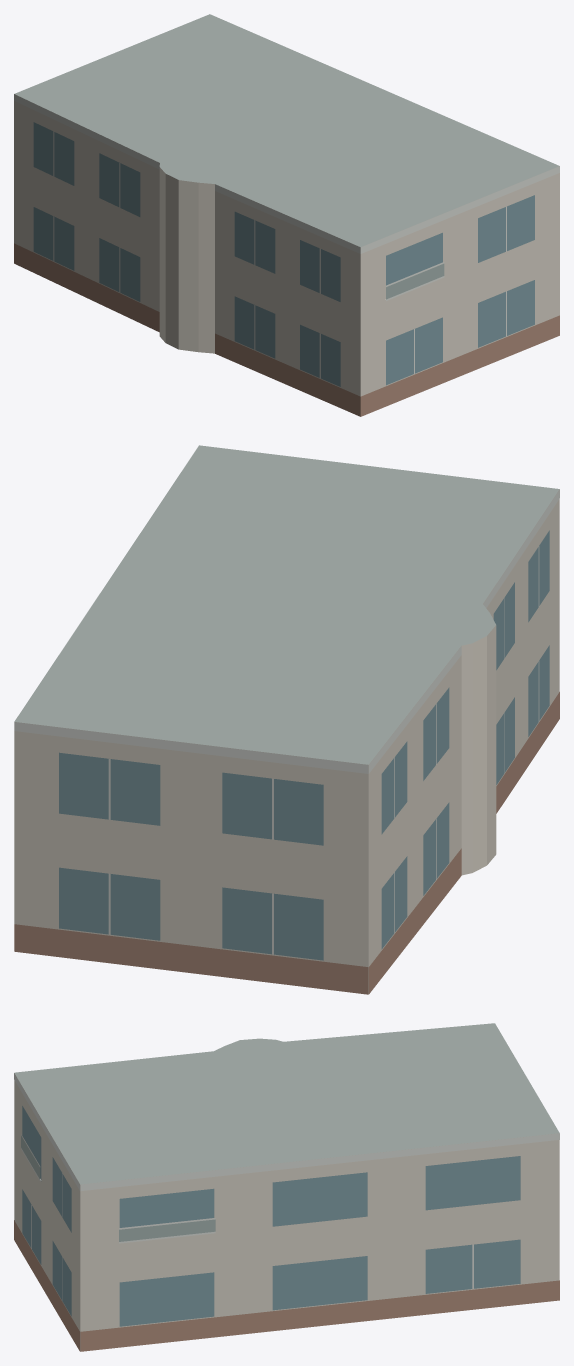
The model's file is survey-upis-32607723.glb.
The picture shows the model from 3 angles, top to bottom: view 1: azimuth 30°, elevation 25°; view 2: azimuth 150°, elevation 25°; view 3: azimuth 270°, elevation 25°; orthographic projection. The views are drawn at different scales.
Visible parts, largest first — view 1: survey-upis-32607723.tmp; view 2: survey-upis-32607723.tmp; view 3: survey-upis-32607723.tmp.
Boxes of the visible parts, x1=… form: survey-upis-32607723.tmp: x1=14, y1=14, x2=559, y2=416; survey-upis-32607723.tmp: x1=14, y1=445, x2=559, y2=994; survey-upis-32607723.tmp: x1=14, y1=1023, x2=559, y2=1351.
Bounding box in the file's own units: 12.64 × 6.1 × 18.05.
